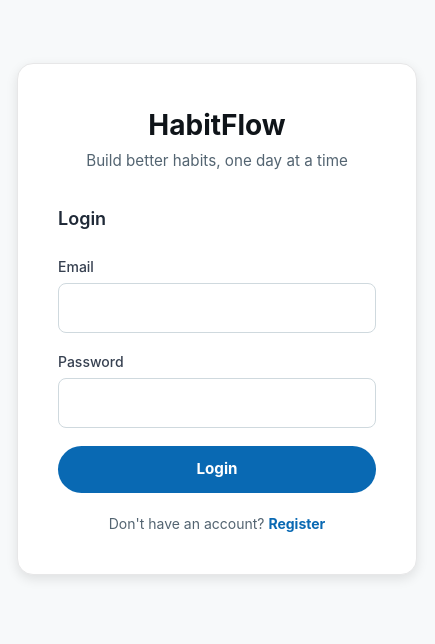
Test case: Authentication › should switch to register form
The width and height of the screenshot is (435, 644).
Step 1. Click the button "Register" → (297, 524), box [268,513,325,534]
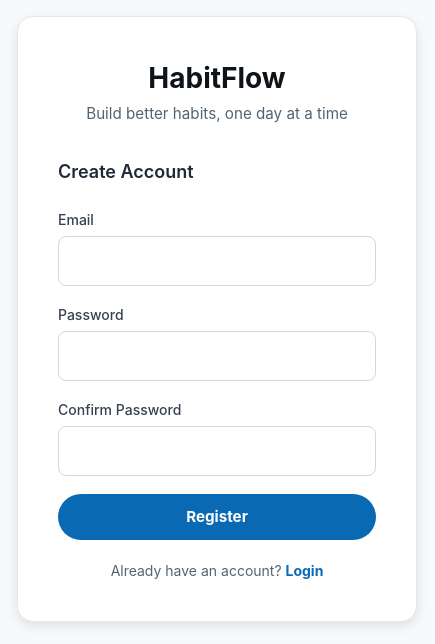
Result: the heading "Create Account" is shown at [58,160,194,182]
